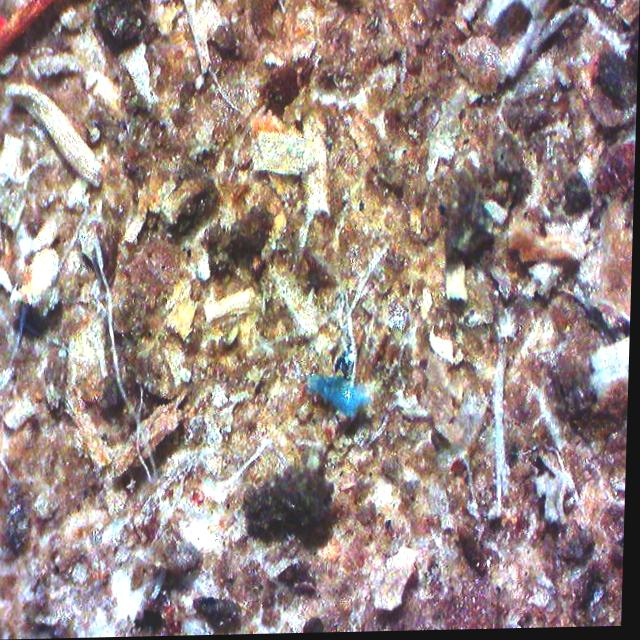microplastic: (302, 370, 375, 423)
